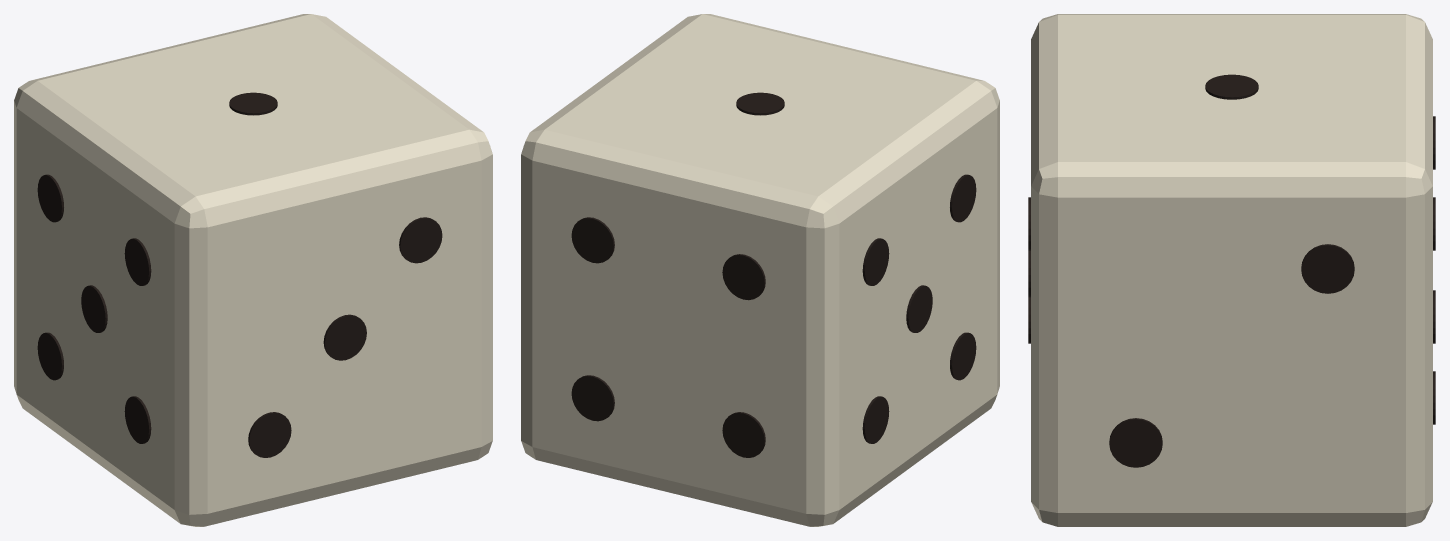
File: gaming-die.glb
The picture shows the model from 3 angles, left to right: view 1: azimuth 30°, elevation 25°; view 2: azimuth 150°, elevation 25°; view 3: azimuth 270°, elevation 25°; orthographic projection. The views are drawn at different scales.
Parts seen in each view (by area): view 1: rounded die body, inlaid pip.009, inlaid pip.014, inlaid pip; view 2: rounded die body, inlaid pip.017, inlaid pip.009, inlaid pip; view 3: rounded die body, inlaid pip.007, inlaid pip, inlaid pip.017.
Boxes of the visible parts, x1,y1,x2,y2 form: rounded die body: [14, 14, 492, 526]; inlaid pip.009: [37, 174, 151, 443]; inlaid pip.014: [248, 217, 442, 457]; inlaid pip: [229, 92, 277, 115]; rounded die body: [521, 14, 999, 526]; inlaid pip.017: [571, 217, 765, 457]; inlaid pip.009: [862, 174, 976, 443]; inlaid pip: [736, 92, 784, 115]; rounded die body: [1031, 14, 1432, 526]; inlaid pip.007: [1109, 244, 1354, 467]; inlaid pip: [1205, 74, 1258, 99]; inlaid pip.017: [1433, 116, 1435, 424].
Size of the model in its own units: 0.1825 by 0.1825 by 0.1825.
